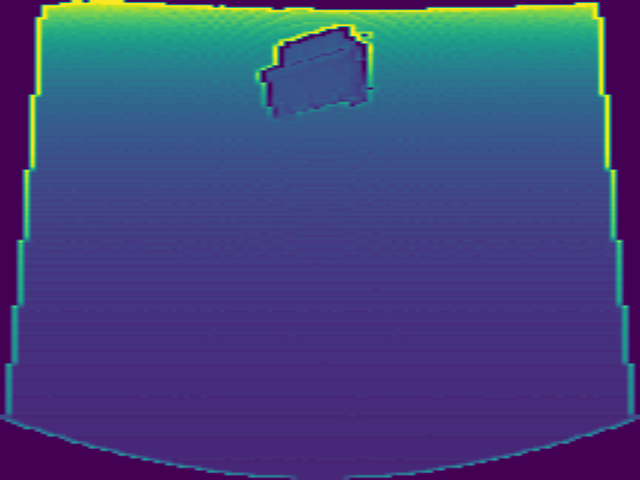car_0027: (254, 24, 377, 118)
